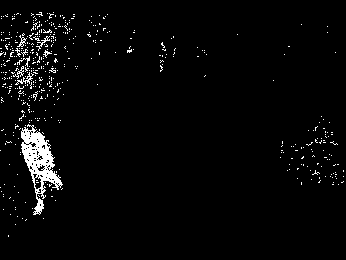person: (20, 123, 64, 214)
